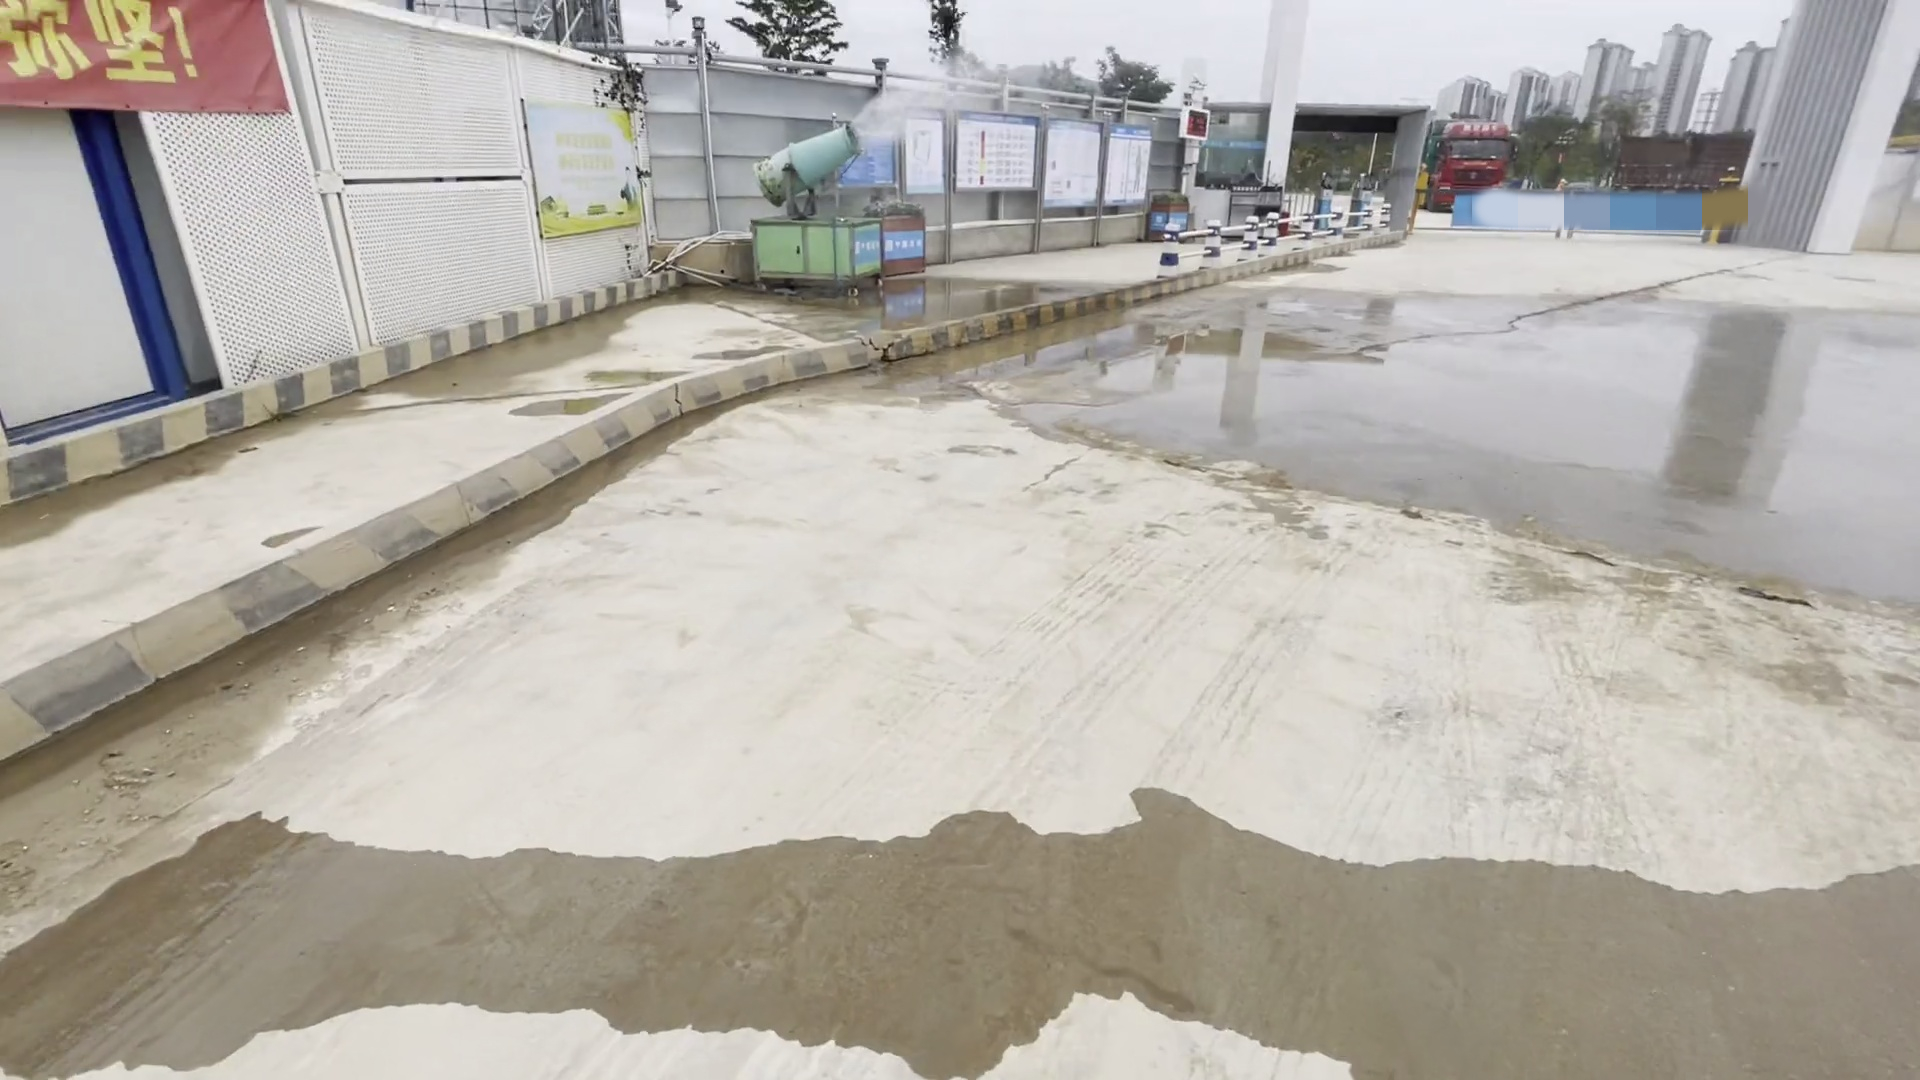slogan: (22, 1, 255, 109)
